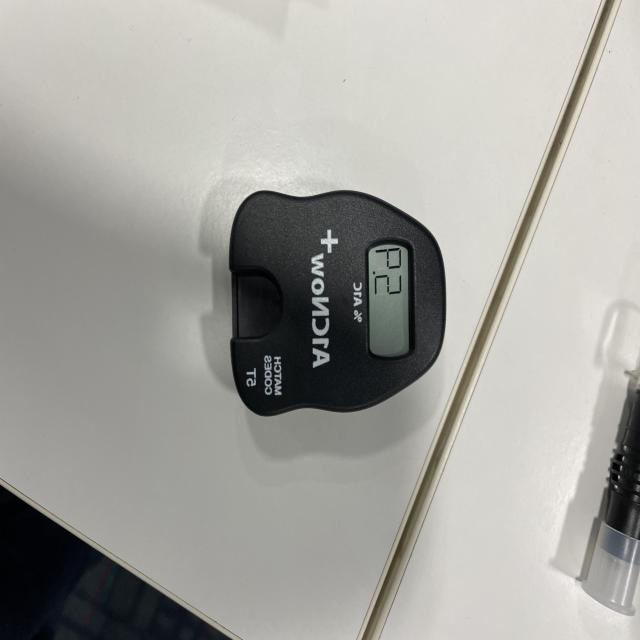hba1c: (201, 189, 449, 424)
